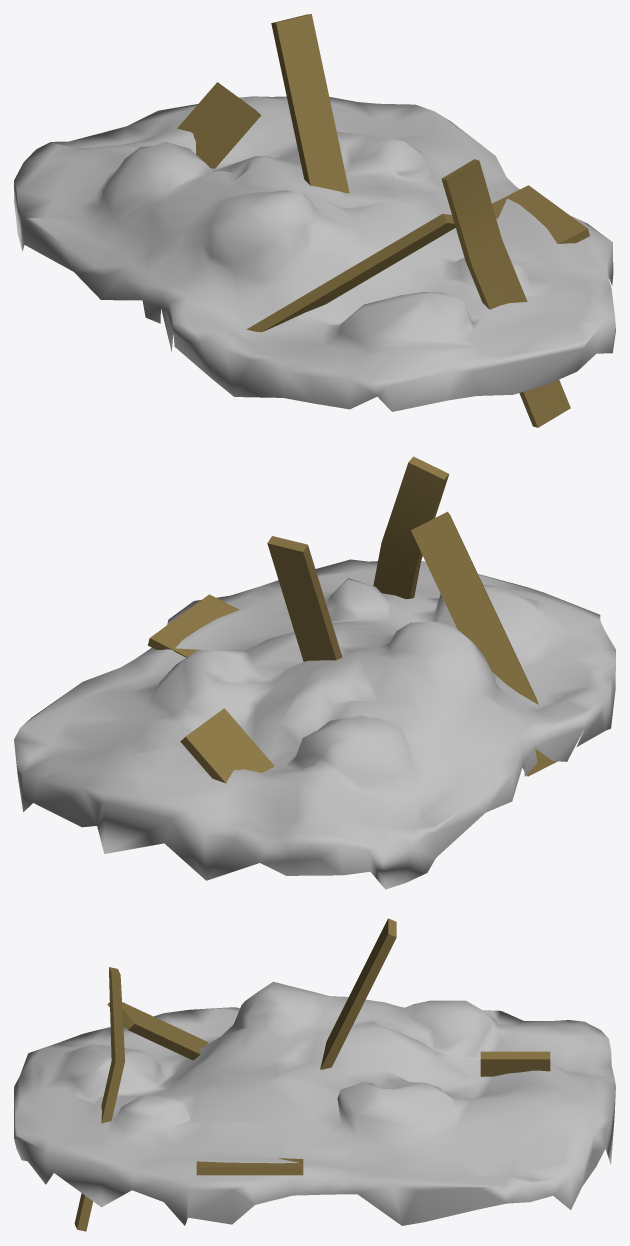
File: PileOfDust_01.fbx
3 renders of one model, top to bottom at view 1: azimuth 30°, elevation 25°; view 2: azimuth 150°, elevation 25°; view 3: azimuth 270°, elevation 25°, orthographic. The views are drawn at different scales.
Visible parts, largest first — view 1: PileOfDust_LOD01; view 2: PileOfDust_LOD01; view 3: PileOfDust_LOD01.
Boxes of the visible parts, bbox=[...] form: PileOfDust_LOD01: bbox=[14, 14, 615, 427]; PileOfDust_LOD01: bbox=[14, 456, 615, 889]; PileOfDust_LOD01: bbox=[14, 918, 615, 1231].
Bounding box in the file's own units: 4.04 × 2.79 × 5.64.
